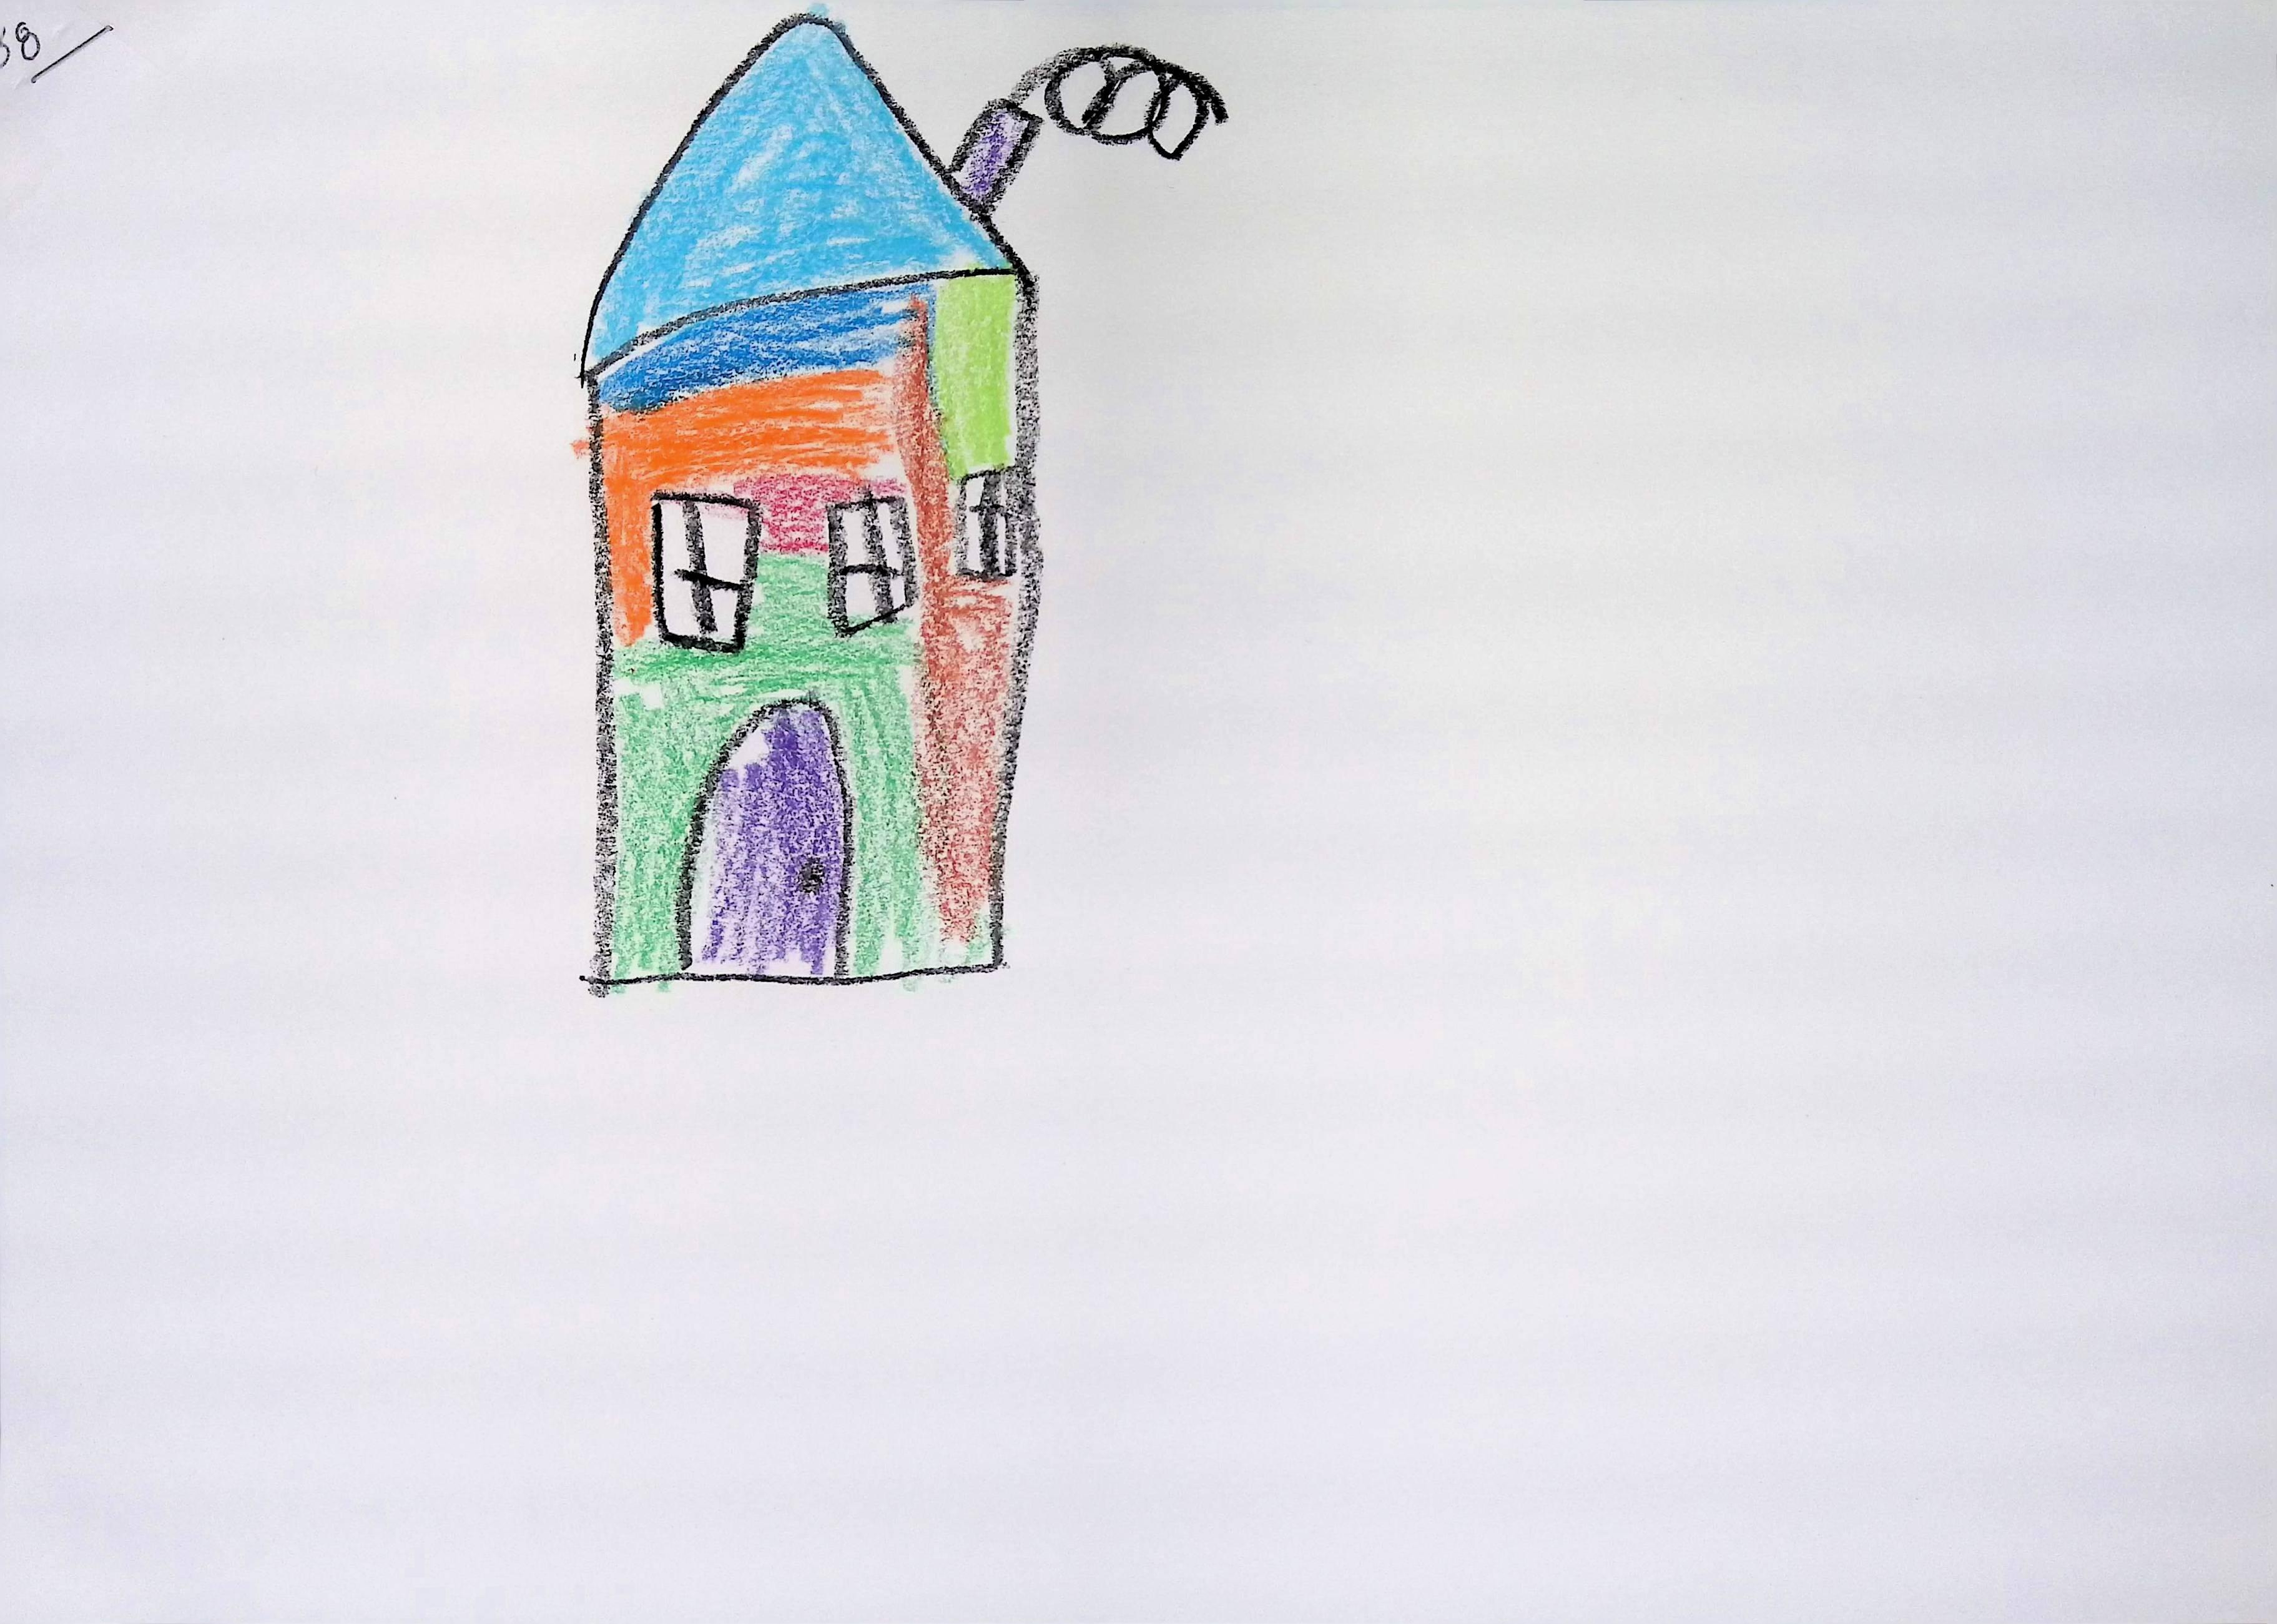chimney: (951, 95, 1042, 209)
door: (687, 701, 845, 975)
house: (580, 11, 1038, 986)
roof: (582, 12, 1008, 369)
wall: (590, 271, 1040, 982)
window: (652, 490, 757, 650), (826, 489, 914, 633), (956, 466, 1026, 578)
